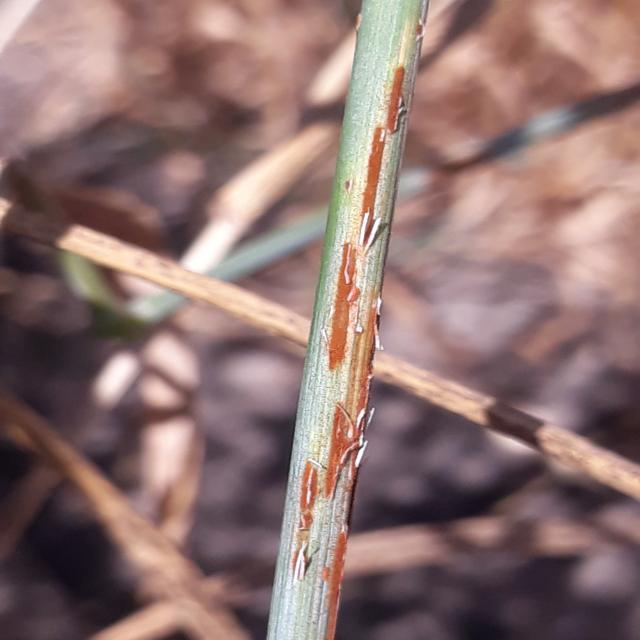black_stem_rust: (267, 0, 502, 640)
